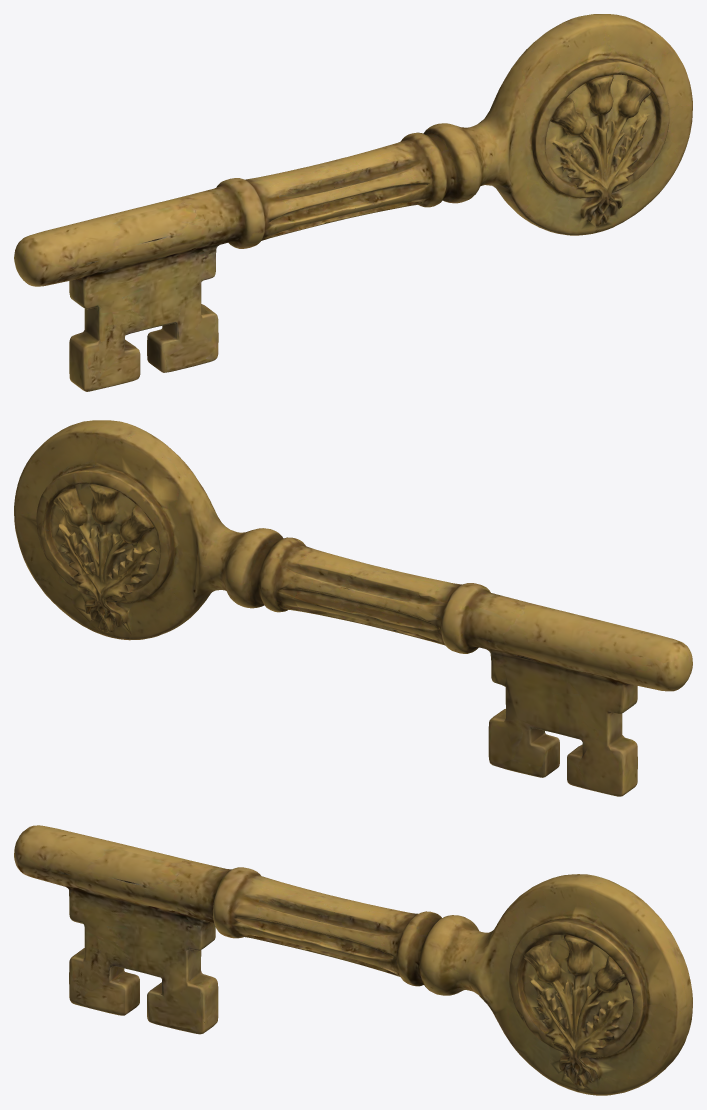
The model's file is a3D-llave.glb.
3 views of the same model, one above another, from view 1: azimuth 30°, elevation 25°; view 2: azimuth 150°, elevation 25°; view 3: azimuth 330°, elevation 25° (orthographic).
Visible parts, largest first — view 1: geometry_0; view 2: geometry_0; view 3: geometry_0.
Boxes of the visible parts, x1,y1,x2,y2 form: geometry_0: [14, 14, 692, 391]; geometry_0: [14, 420, 692, 796]; geometry_0: [14, 825, 692, 1095].
Size of the model in its own units: 1.9 by 0.6647 by 0.2269.
Materials: 1 (1 with a texture image).
